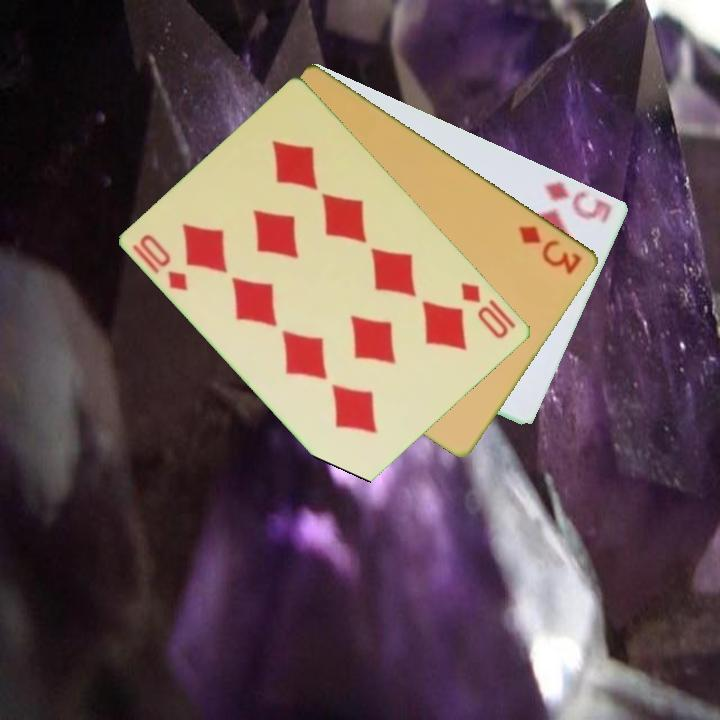10d: (136, 230, 192, 295), (457, 279, 512, 342)
3d: (515, 222, 586, 277)
5d: (542, 177, 616, 226)
